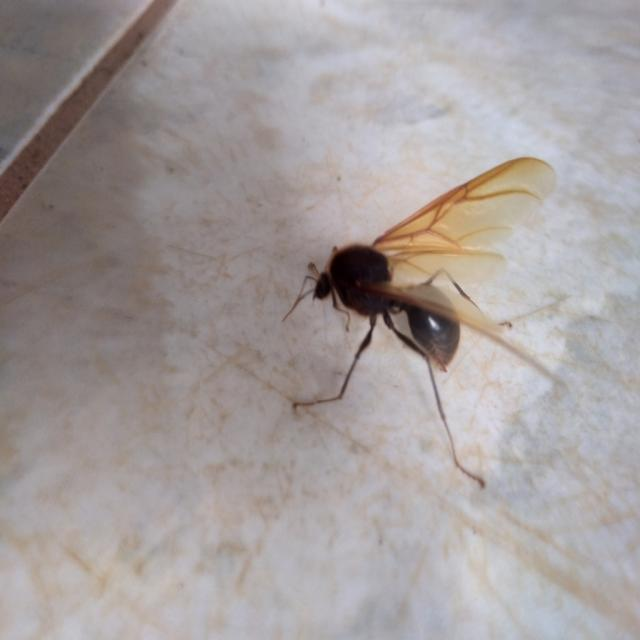Alive-Male-Alate: (282, 156, 569, 491)
